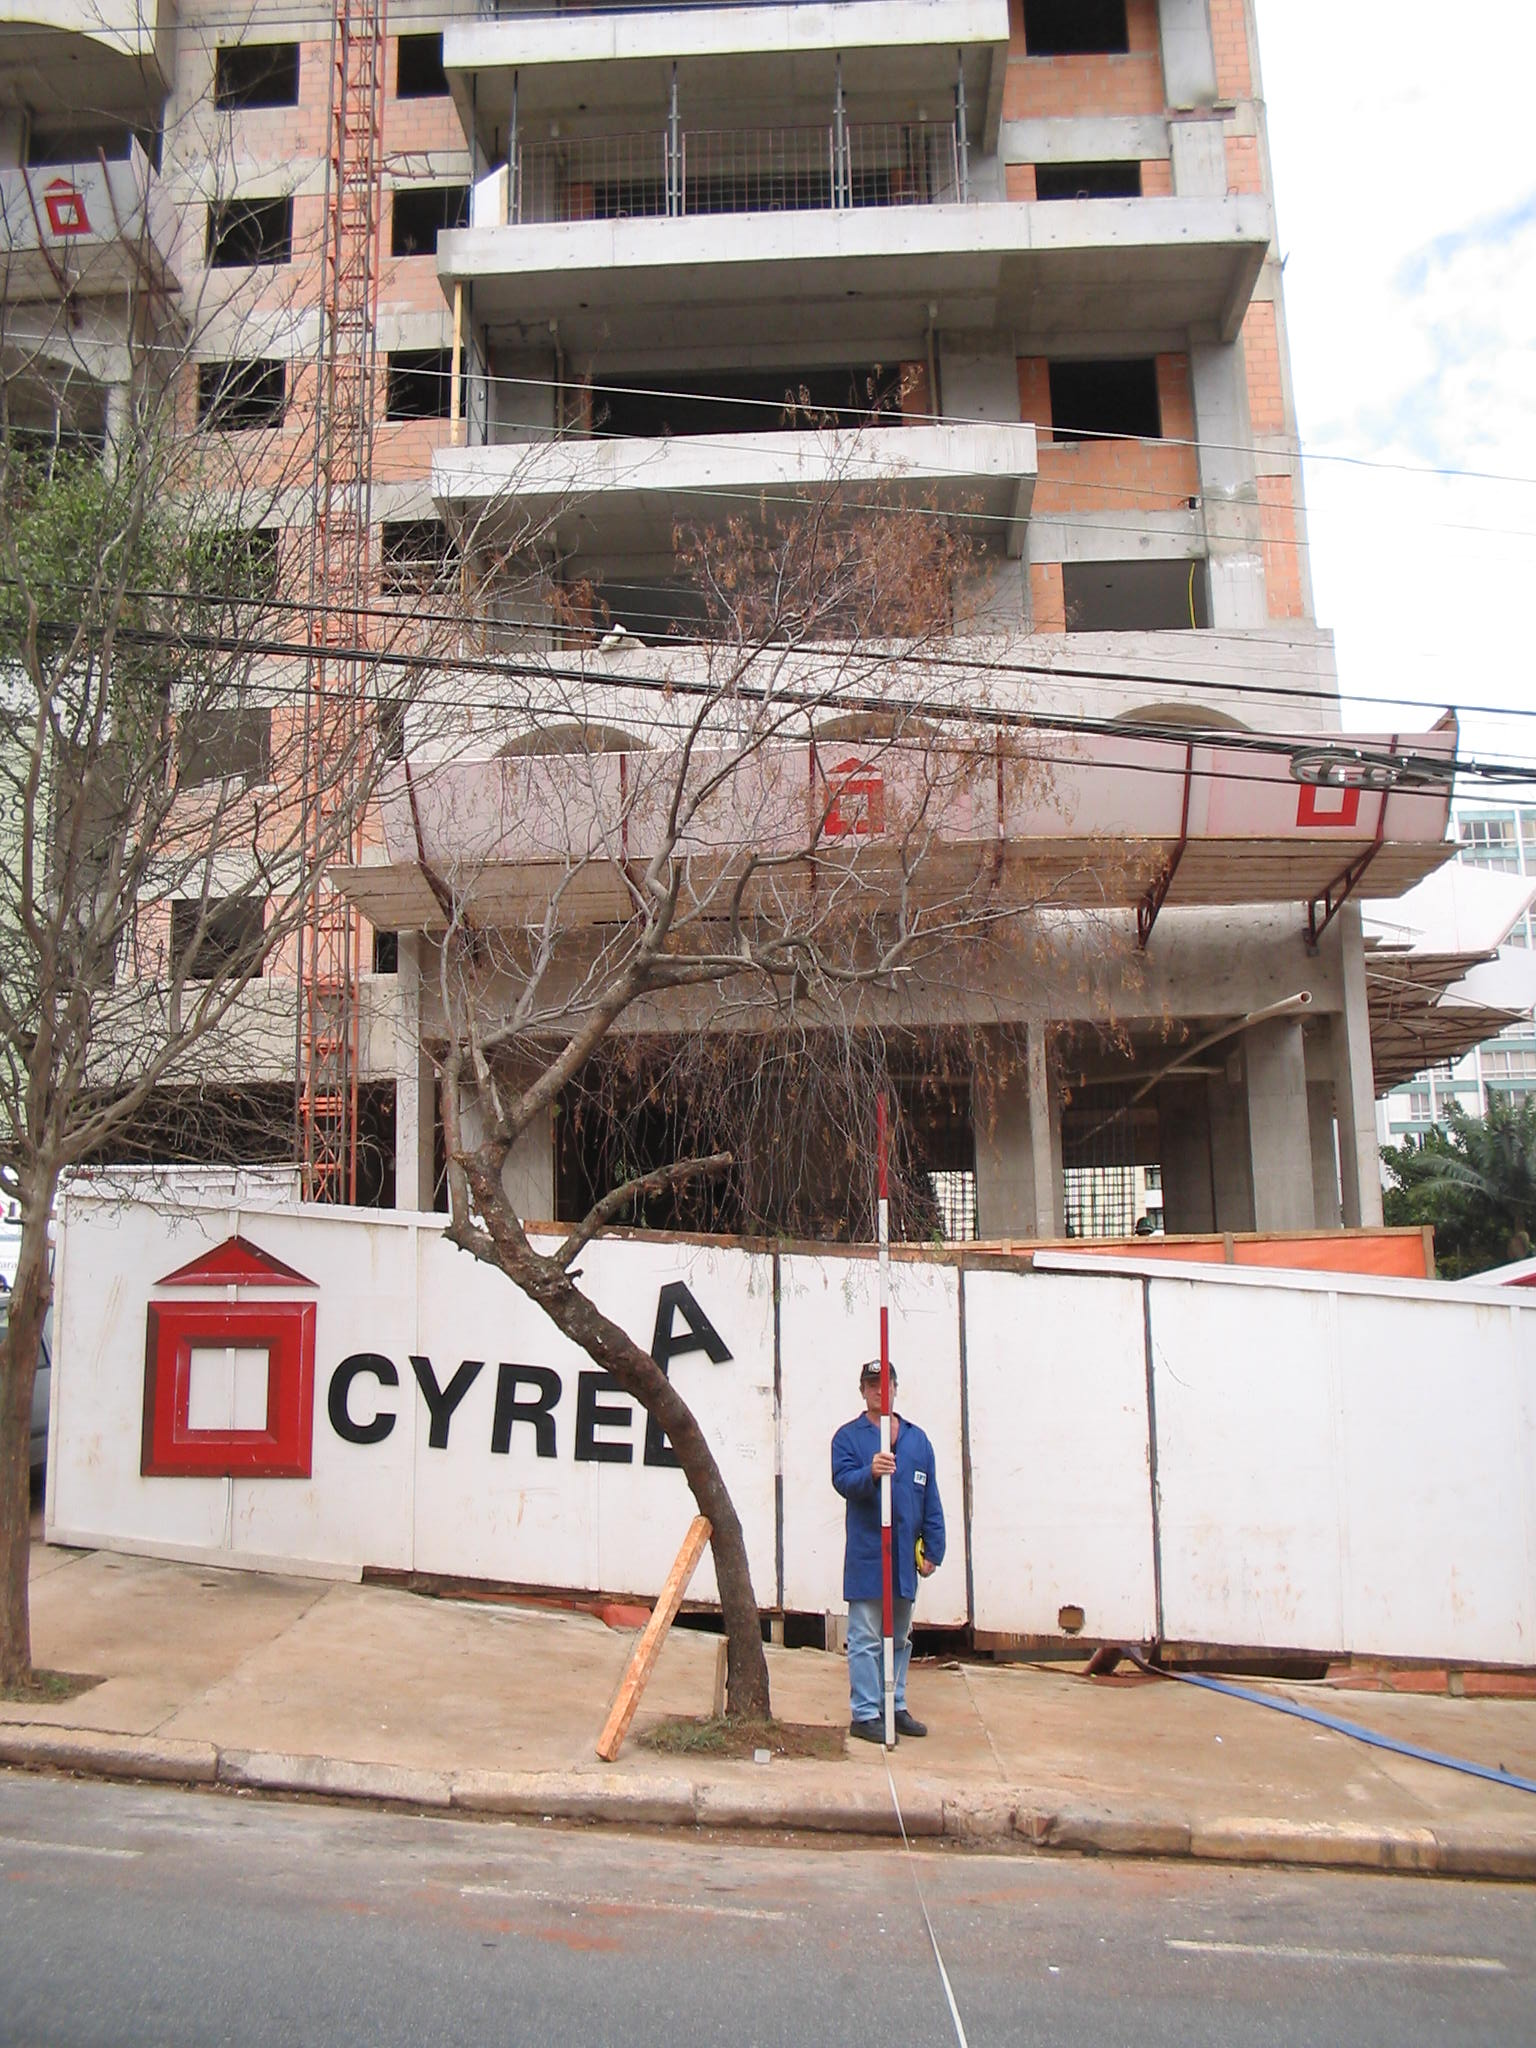stem: (481, 1263, 802, 1725), (2, 1169, 98, 1695)
stick: (849, 1097, 931, 1751)
tree: (389, 379, 1196, 1732), (2, 150, 490, 1696)
